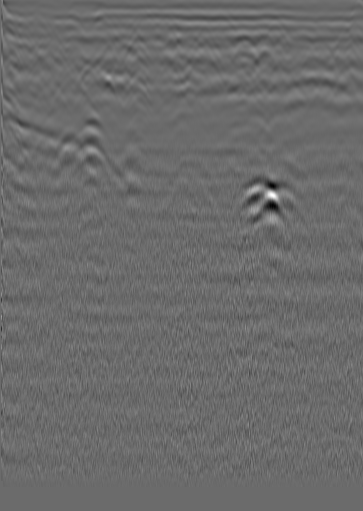가스: (65, 138, 108, 174)
상수: (334, 30, 354, 50)
오수: (24, 11, 44, 31)
우수: (165, 25, 185, 45)
